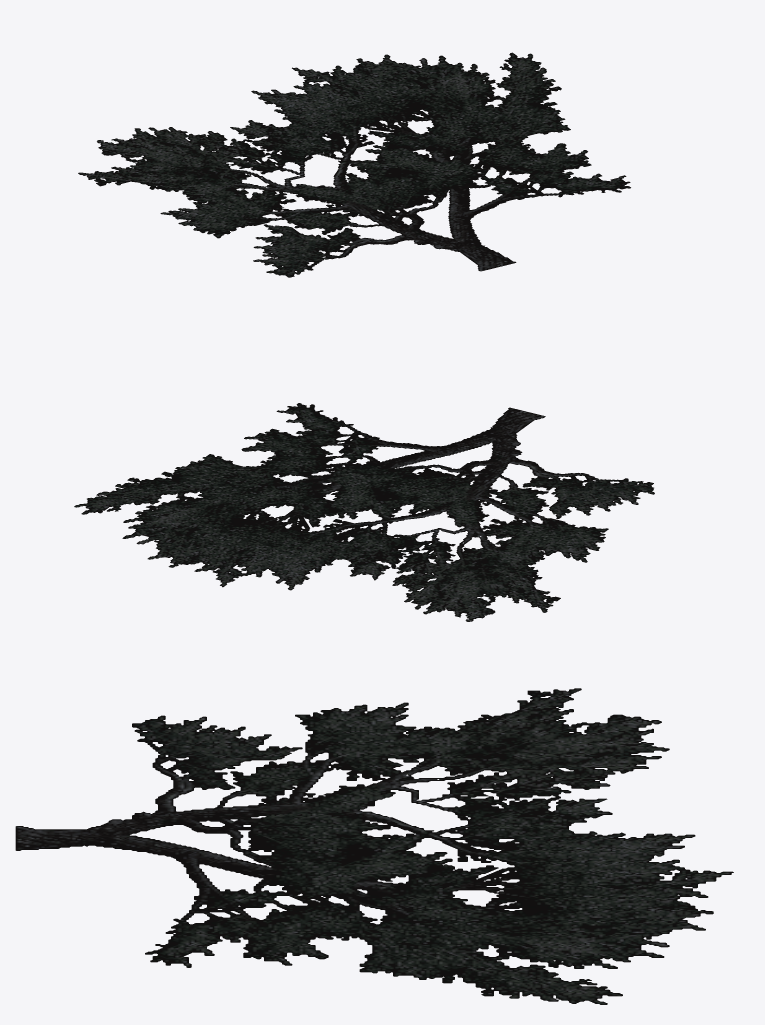
The model's file is SM_EC_Tree_Card_08.fbx.
The picture shows the model from 3 angles, top to bottom: view 1: azimuth 30°, elevation 25°; view 2: azimuth 150°, elevation 25°; view 3: azimuth 270°, elevation 25°; orthographic projection. The views are drawn at different scales.
Parts seen in each view (by area): view 1: SM_EC_Tree_Card_08; view 2: SM_EC_Tree_Card_08; view 3: SM_EC_Tree_Card_08.
Part boxes in pixels (bbox=[...]): SM_EC_Tree_Card_08: bbox=[78, 52, 630, 277]; SM_EC_Tree_Card_08: bbox=[74, 403, 654, 621]; SM_EC_Tree_Card_08: bbox=[15, 688, 733, 1004].
Bounding box in the file's own units: 4.65 × 4.46 × 0.
